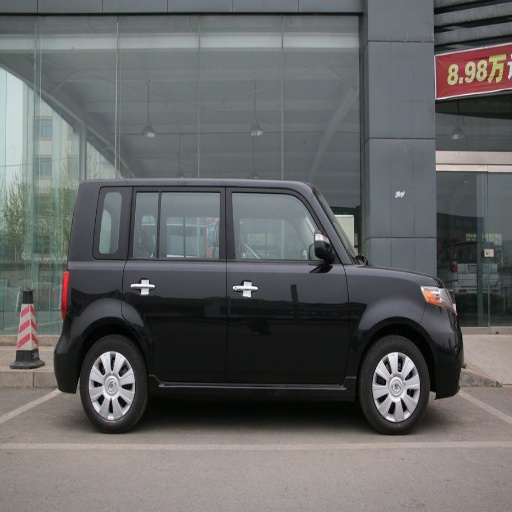back_right_door: (125, 183, 226, 382)
front_right_door: (227, 183, 348, 382)
